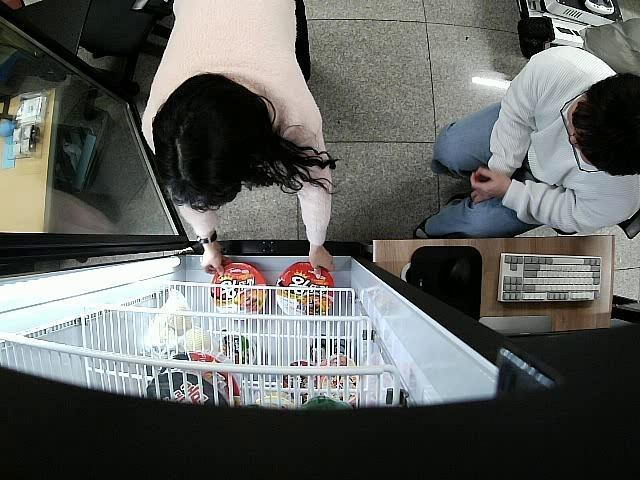10_wangTtukkeong: (276, 264, 335, 318), (212, 264, 266, 320)
